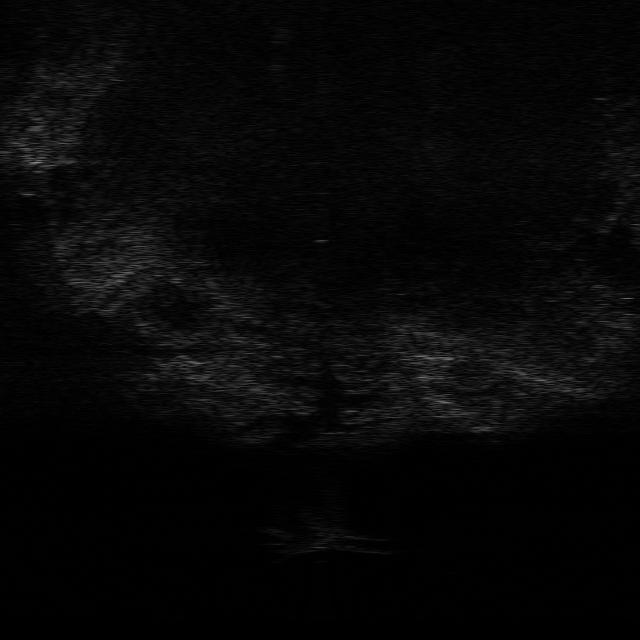plane: (265, 522, 391, 556)
